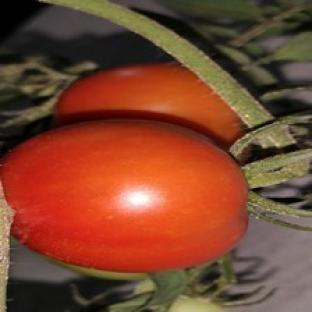Tomato: (2, 120, 247, 272), (55, 63, 245, 149), (51, 260, 149, 279), (169, 296, 224, 311)
